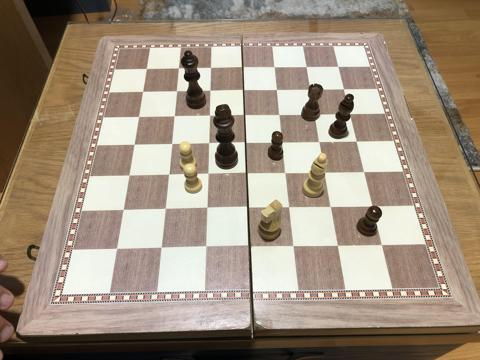xcorner: (333, 61, 345, 73), (301, 61, 313, 73), (269, 62, 281, 74), (237, 62, 249, 74), (173, 63, 185, 75), (141, 63, 153, 75), (305, 84, 317, 96), (271, 84, 283, 96), (238, 85, 250, 97), (204, 85, 216, 97), (137, 86, 149, 98), (344, 108, 356, 120), (309, 109, 321, 121), (274, 109, 286, 121), (239, 110, 251, 122), (133, 111, 145, 123), (351, 136, 363, 148), (314, 136, 326, 148), (277, 137, 289, 149), (240, 137, 252, 149), (203, 138, 215, 150), (358, 166, 370, 178), (319, 167, 331, 179), (280, 167, 292, 179), (241, 168, 253, 180), (163, 169, 175, 181), (325, 201, 337, 213), (201, 203, 213, 215), (118, 204, 130, 216), (376, 239, 388, 251), (332, 239, 344, 251), (288, 240, 300, 252), (244, 241, 256, 253), (200, 241, 212, 253), (156, 242, 168, 254), (205, 63, 217, 74), (338, 84, 350, 95), (204, 110, 215, 122), (168, 111, 180, 122), (166, 138, 177, 150), (129, 139, 140, 151), (202, 169, 214, 180), (284, 202, 296, 213), (243, 202, 254, 214), (160, 203, 171, 215), (171, 86, 182, 97), (124, 170, 135, 181), (367, 201, 378, 212), (112, 243, 123, 254)
